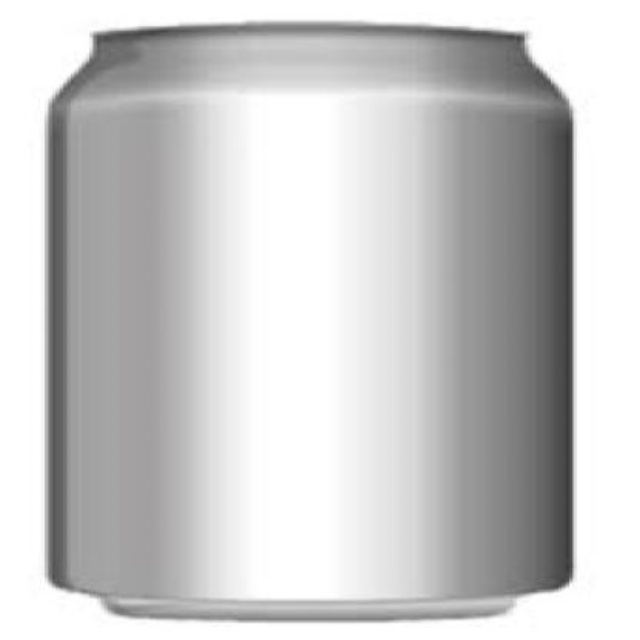trash: (48, 23, 571, 618)
